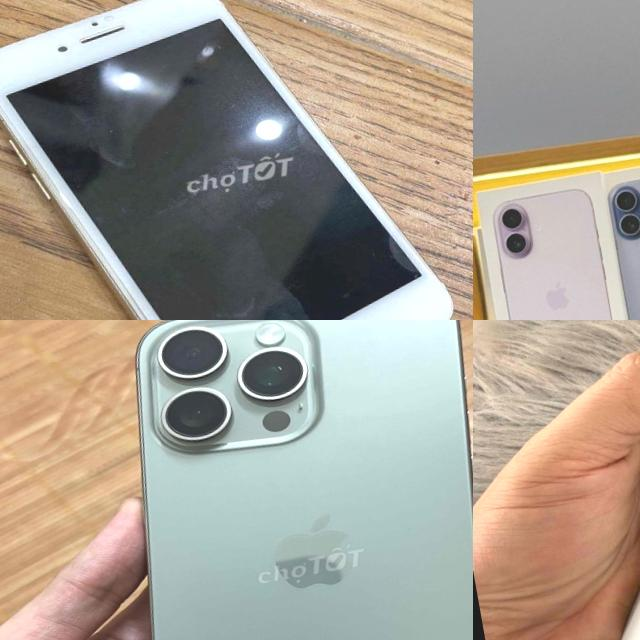gen_15: (66, 320, 473, 640), (520, 320, 640, 640)
gen_17: (477, 173, 632, 320)
gen_7_8: (0, 0, 470, 320)
